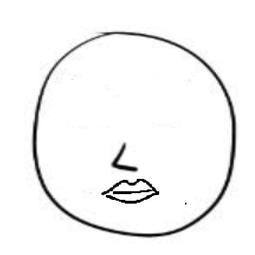cupid_mouth: (99, 175, 170, 214)
pointy_nose: (104, 135, 143, 174)
